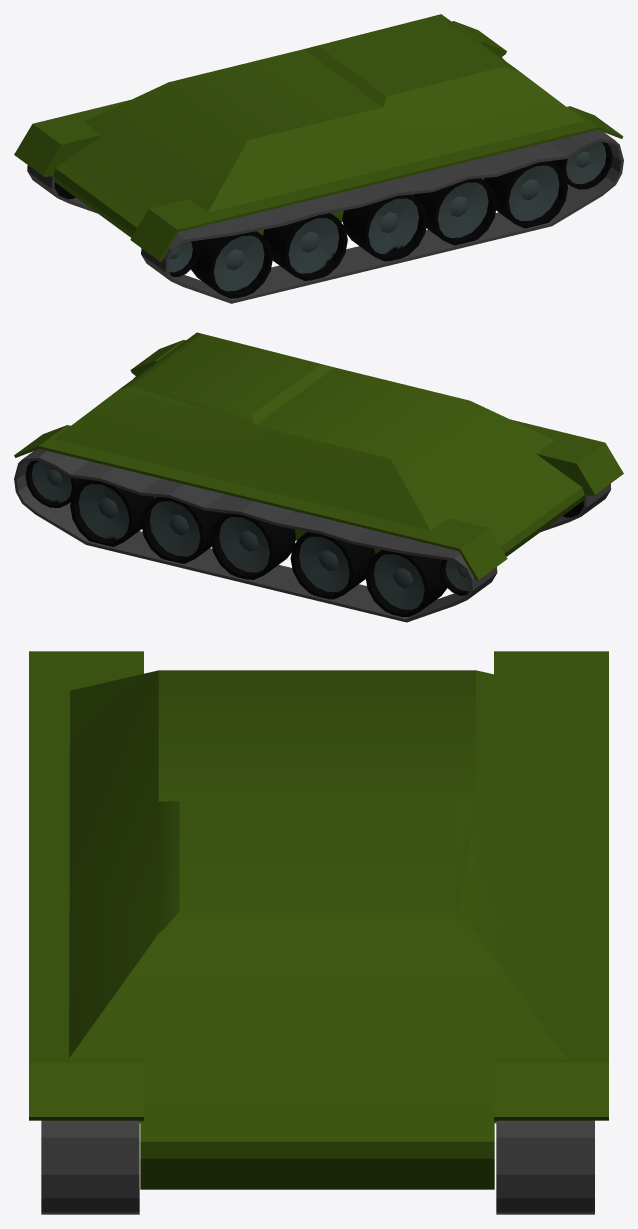
File: T_34Chasis.obj
The picture shows the model from 3 angles, top to bottom: view 1: azimuth 30°, elevation 25°; view 2: azimuth 150°, elevation 25°; view 3: azimuth 270°, elevation 25°; orthographic projection. The views are drawn at different scales.
Parts seen in each view (by area): view 1: t_34; view 2: t_34; view 3: t_34.
Part boxes in pixels (x1=…): t_34: x1=14, y1=14, x2=623, y2=303; t_34: x1=14, y1=332, x2=623, y2=622; t_34: x1=29, y1=651, x2=608, y2=1214.
Bounding box in the file's own units: 39.5 × 11.11 × 21.21.
Materials: 1 (1 with a texture image).
